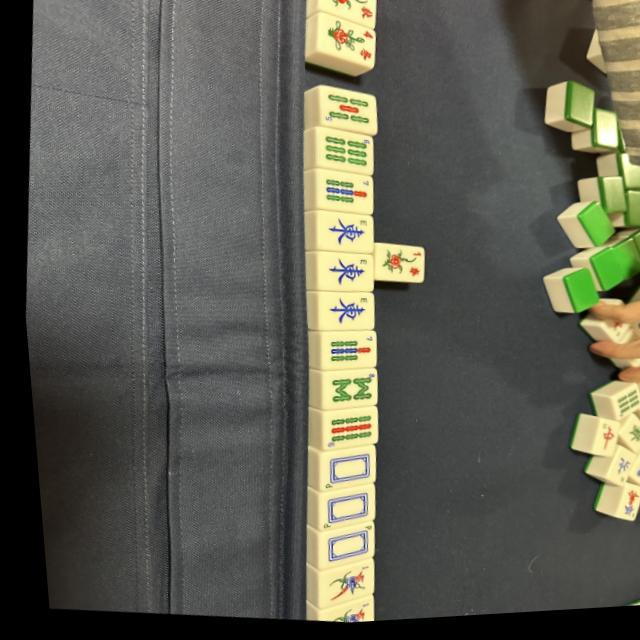bs1: (366, 248, 418, 289)
bs3: (319, 0, 376, 26)
bs4: (318, 22, 375, 71)
hdw: (310, 491, 366, 534), (310, 526, 364, 570), (312, 452, 367, 494)
hwe: (314, 254, 369, 297), (314, 216, 368, 258), (316, 294, 367, 334)
sb1: (311, 565, 362, 607), (314, 603, 359, 627)
sb5: (318, 92, 374, 134)
sb6: (316, 136, 368, 176)
sb7: (314, 176, 369, 217), (316, 332, 369, 373)
sb8: (317, 372, 369, 412)
sb9: (314, 414, 369, 457)
